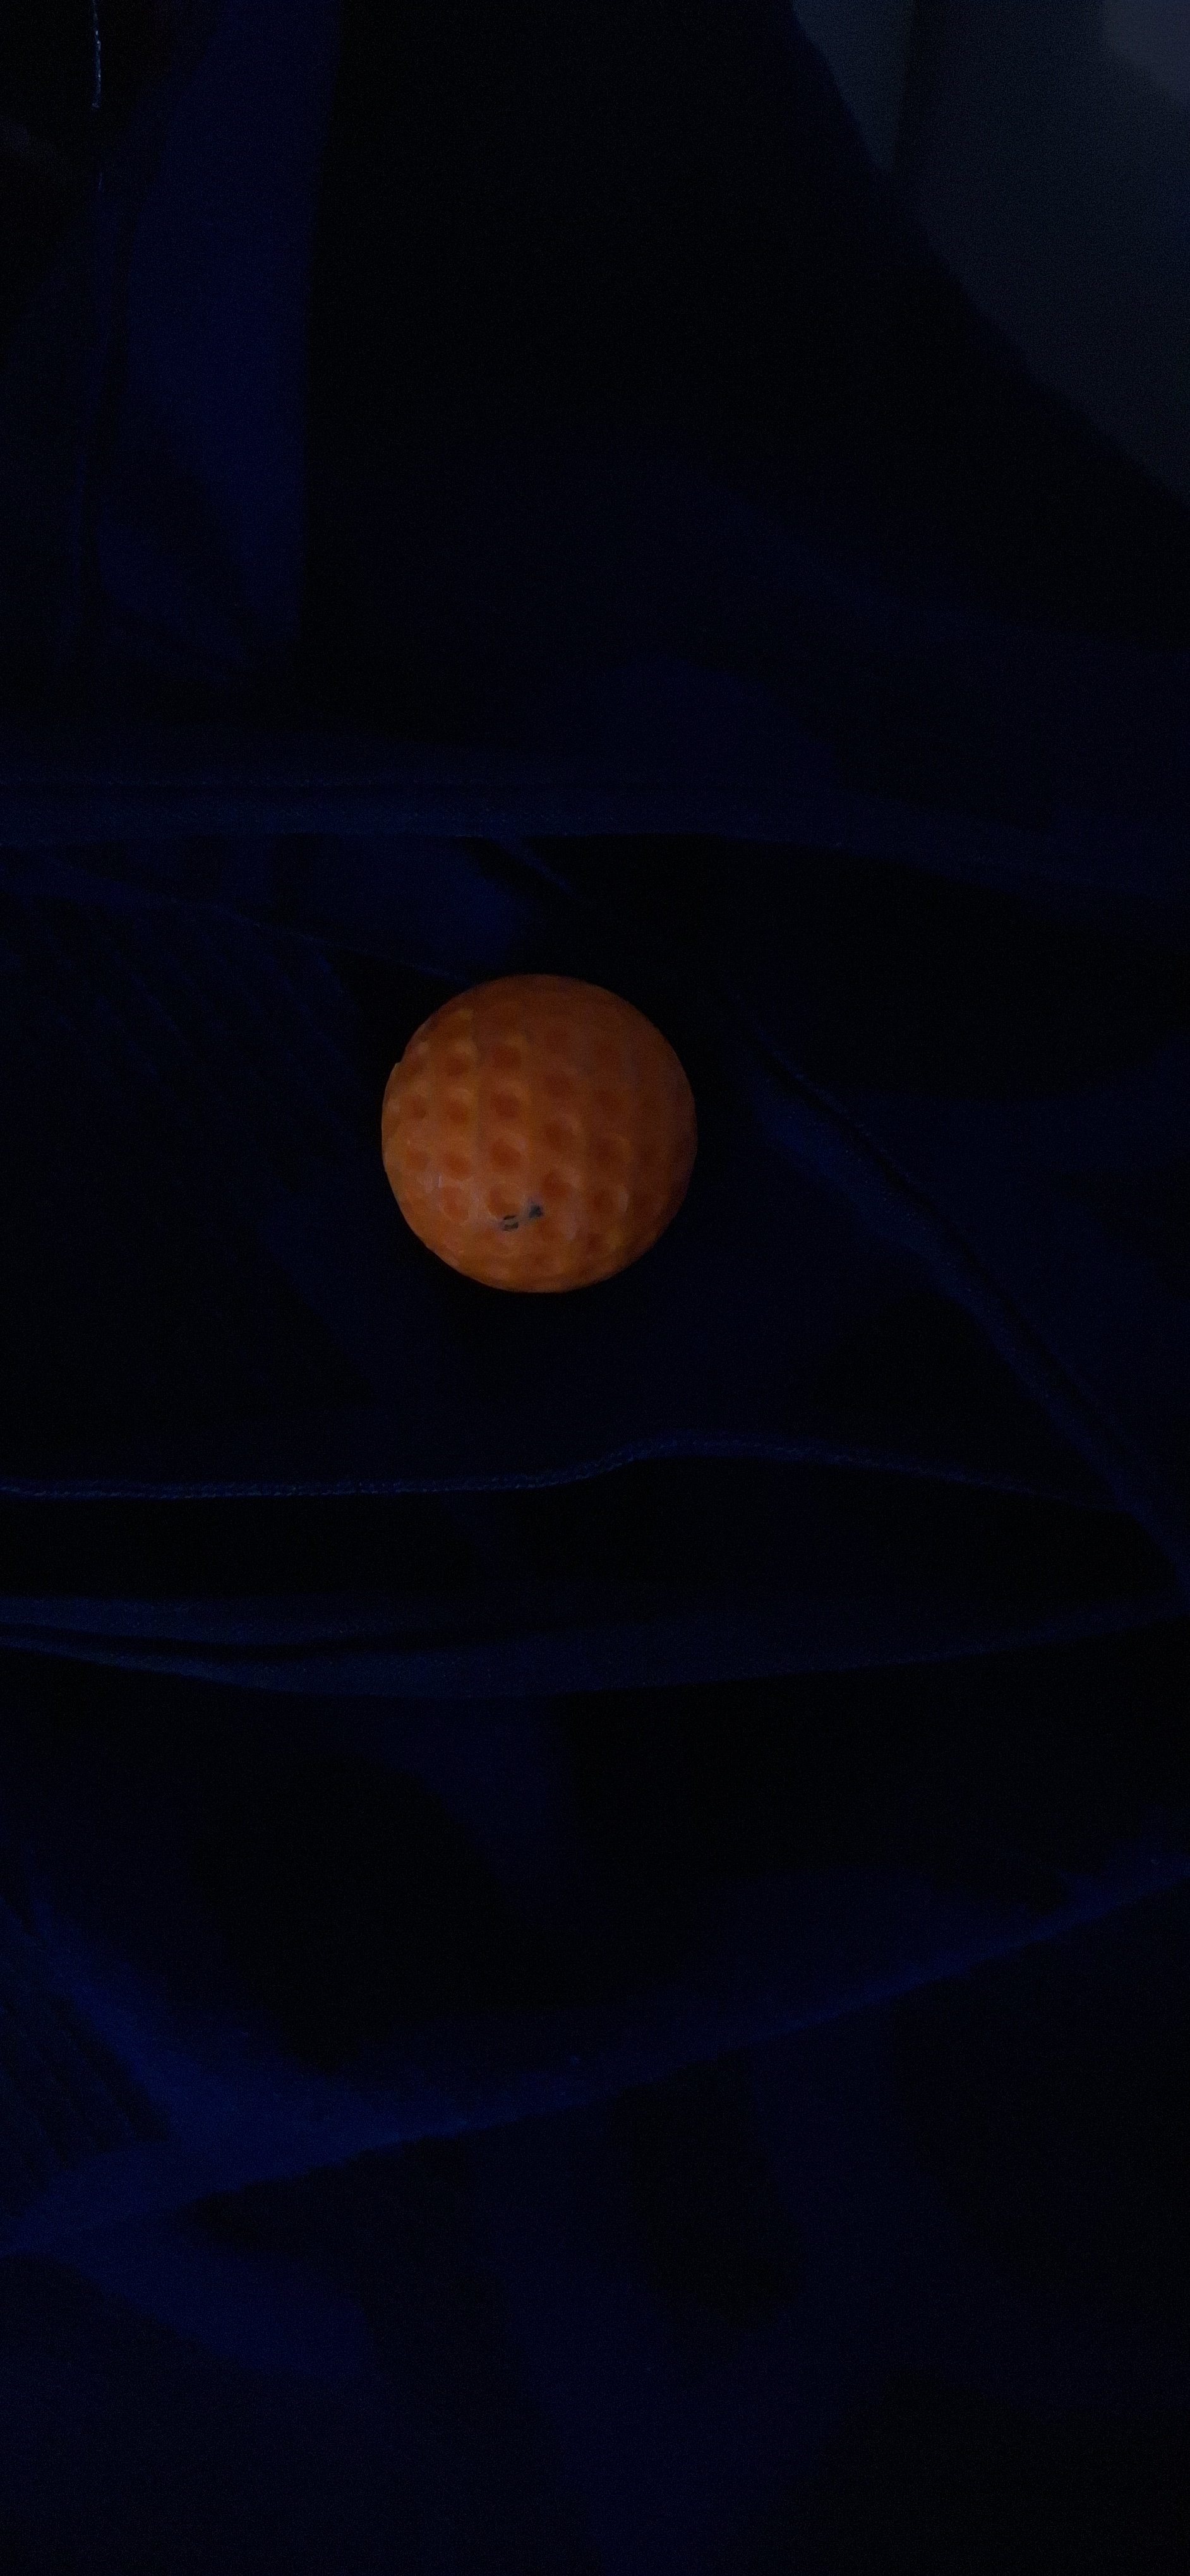ball: (450, 1046, 595, 1771)
